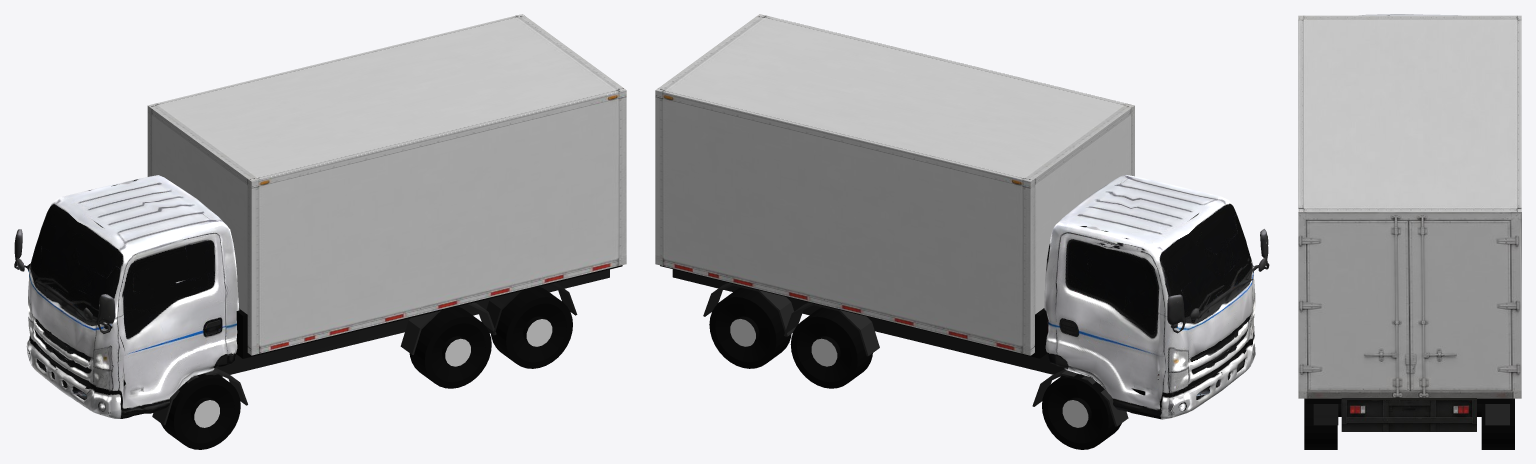
File: Truck3_optimized.glb
The picture shows the model from 3 angles, left to right: view 1: azimuth 30°, elevation 25°; view 2: azimuth 150°, elevation 25°; view 3: azimuth 270°, elevation 25°; orthographic projection. The views are drawn at different scales.
Visible parts, largest first — view 1: Cube.006, Mesh_0.010, BackTire, BackTire.001, FrontTire, Supporter, Mudguard.001, Mudguard, LowerPart, Mudguard.002; view 2: Cube.006, Mesh_0.010, BackTire, BackTire.001, FrontTire, Supporter, Mudguard2.001, Mudguard2, Mudguard2.002; view 3: Cube.006, Supporter, BackTire, Mudguard, Mudguard2, LowerPart.
Boxes of the visible parts, x1=… form: Cube.006: x1=147, y1=14, x2=626, y2=355; Mesh_0.010: x1=14, y1=175, x2=239, y2=418; BackTire: x1=491, y1=287, x2=572, y2=368; BackTire.001: x1=409, y1=306, x2=491, y2=388; FrontTire: x1=161, y1=373, x2=240, y2=449; Supporter: x1=216, y1=269, x2=609, y2=376; Mudguard.001: x1=400, y1=302, x2=496, y2=354; Mudguard: x1=486, y1=283, x2=577, y2=335; LowerPart: x1=236, y1=265, x2=622, y2=358; Mudguard.002: x1=152, y1=368, x2=247, y2=425; Cube.006: x1=655, y1=14, x2=1134, y2=355; Mesh_0.010: x1=1044, y1=175, x2=1269, y2=419; BackTire: x1=709, y1=287, x2=791, y2=368; BackTire.001: x1=790, y1=307, x2=872, y2=388; FrontTire: x1=1042, y1=374, x2=1121, y2=449; Supporter: x1=672, y1=269, x2=1064, y2=376; Mudguard2.001: x1=784, y1=302, x2=879, y2=356; Mudguard2: x1=703, y1=282, x2=796, y2=336; Mudguard2.002: x1=1032, y1=369, x2=1128, y2=426; Cube.006: x1=1298, y1=15, x2=1521, y2=398; Supporter: x1=1341, y1=398, x2=1476, y2=431; BackTire: x1=1304, y1=398, x2=1514, y2=449; Mudguard: x1=1313, y1=404, x2=1338, y2=425; Mudguard2: x1=1485, y1=404, x2=1509, y2=425; LowerPart: x1=1306, y1=398, x2=1512, y2=403.
Bounding box in the file's own units: 2.22 × 1.04 × 0.76.
8 materials, 3 textured.
